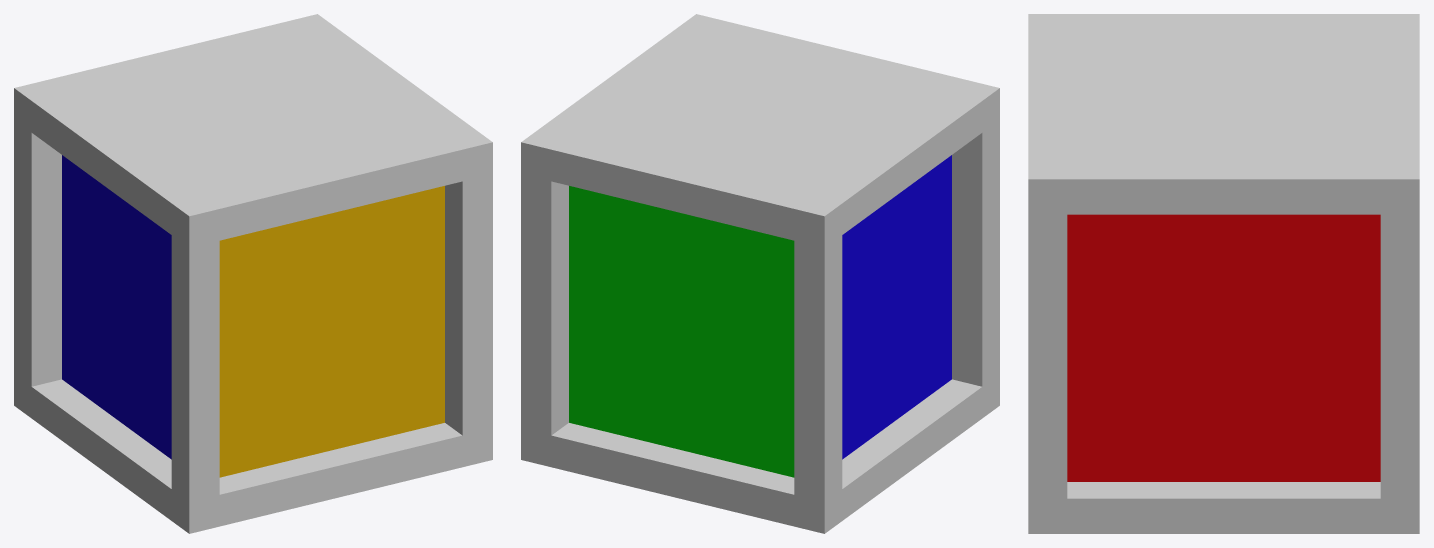
The model's file is Frame.fbx.
3 views of the same model, side by side, from view 1: azimuth 30°, elevation 25°; view 2: azimuth 150°, elevation 25°; view 3: azimuth 270°, elevation 25° (orthographic). The views are drawn at different scales.
Parts seen in each view (by area): view 1: Plane; view 2: Plane; view 3: Plane.
Boxes of the visible parts, left/top/right/bottom form: Plane: left=14, top=14, right=492, bottom=533; Plane: left=521, top=14, right=999, bottom=533; Plane: left=1028, top=14, right=1419, bottom=533.
Bounding box in the file's own units: 200 × 200 × 200.
